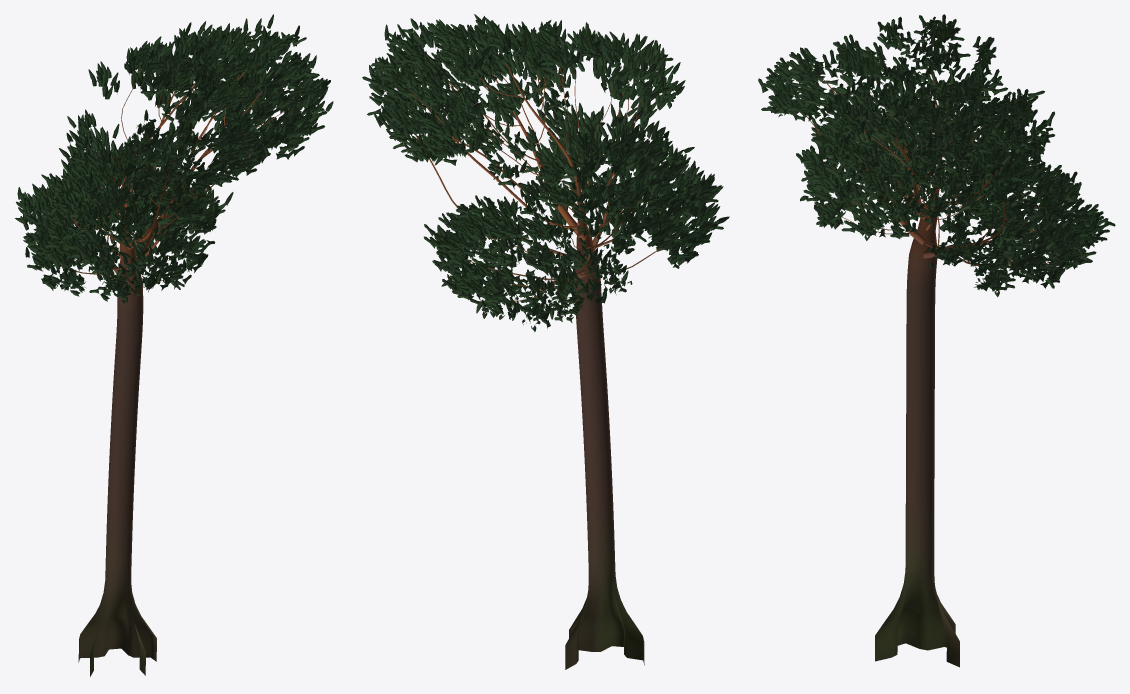
The model's file is SM_Tree_pine_0.glb.
3 views of the same model, side by side, from view 1: azimuth 30°, elevation 25°; view 2: azimuth 150°, elevation 25°; view 3: azimuth 270°, elevation 25° (orthographic). The views are drawn at different scales.
Visible parts, largest first — view 1: SM_Tree_pine_0; view 2: SM_Tree_pine_0; view 3: SM_Tree_pine_0.
Part boxes in pixels (x1,y1,x2,y2): SM_Tree_pine_0: (15, 14, 333, 676); SM_Tree_pine_0: (362, 14, 729, 669); SM_Tree_pine_0: (758, 14, 1115, 667).
Bounding box in the file's own units: 9.61 × 17.9 × 8.66.
